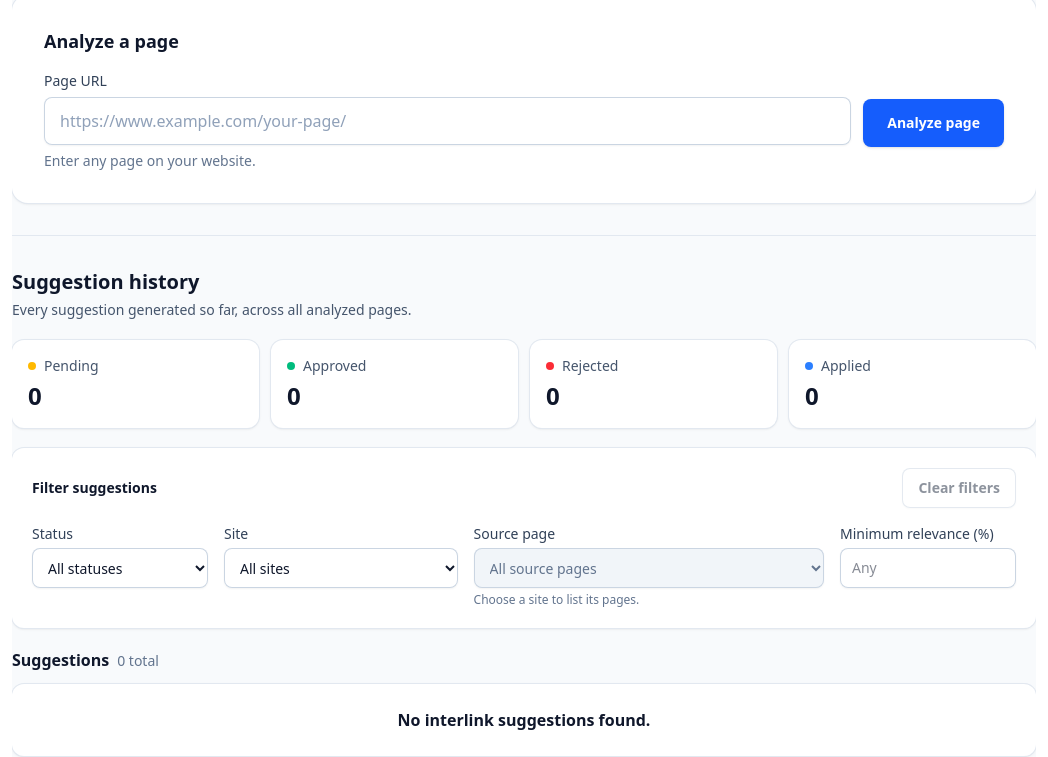
Test case: analysis results › shows the source page and its suggested links, without exposing ids
This screenshot has width=1048, height=757.
Type "https://example.test/healthcare-chatbots/" into the field labelled "Page URL" at (448, 121), box [44,97,851,145]
Then press Enter
(page scrolled)
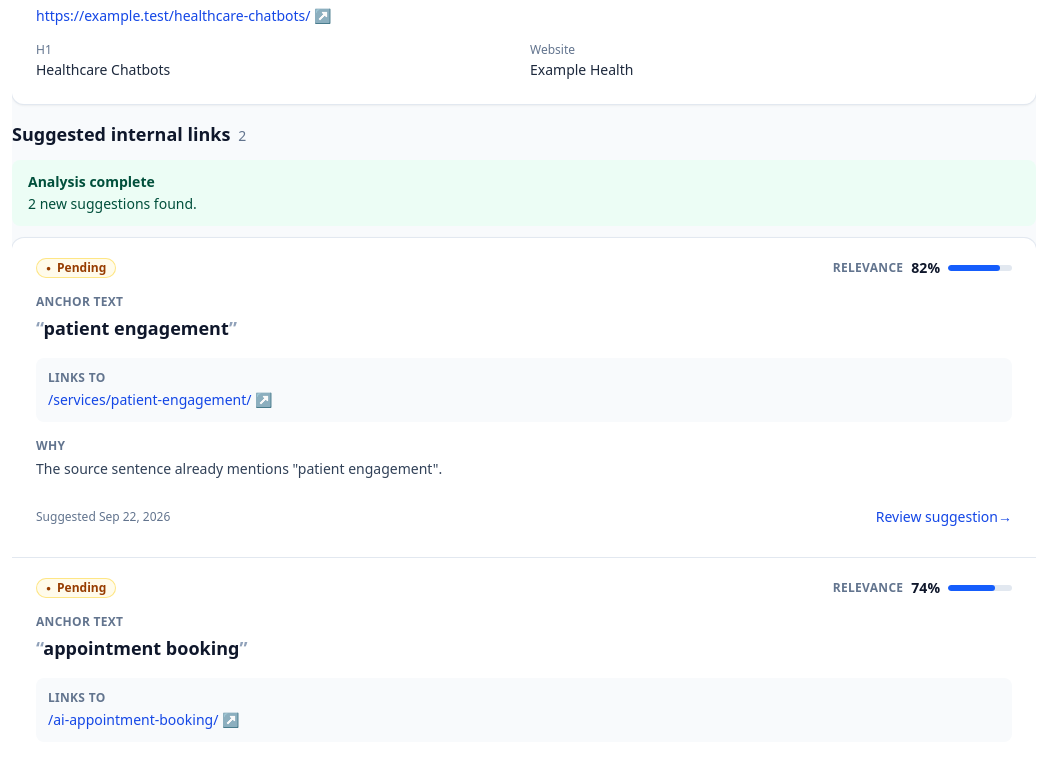
expect the element "Source page" shows "Healthcare Chatbots": met, box [36,60,170,79]
expect the element "Source page" shows "Example Health": met, box [530,60,633,79]
expect the heading "“patient engagement”" is shown: met, box [36,316,237,340]
